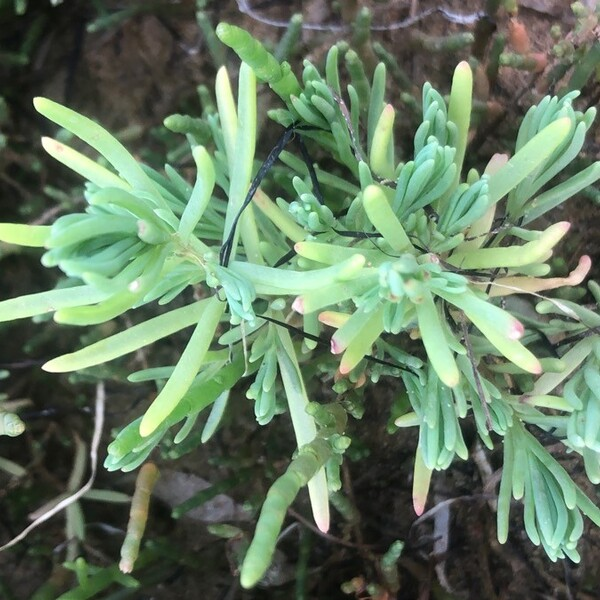obstacle: (38, 34, 563, 549)
